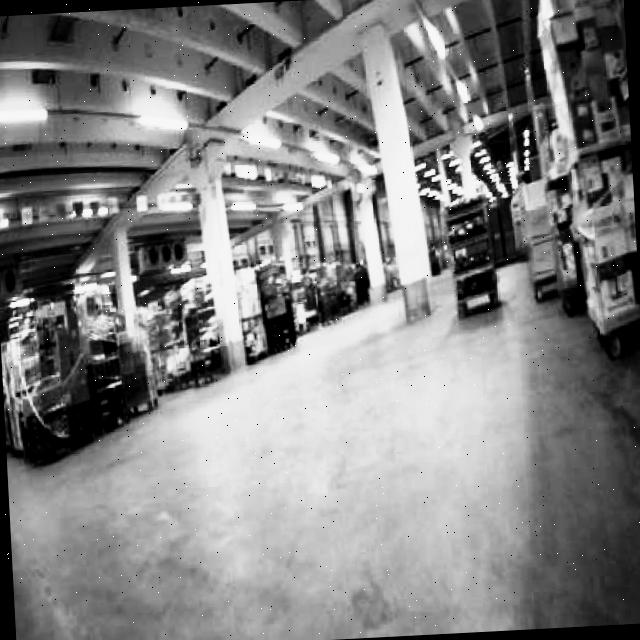ground: (0, 248, 640, 640)
pallet: (0, 250, 376, 469), (536, 0, 640, 362), (564, 122, 640, 360), (0, 293, 101, 467), (445, 198, 503, 318), (522, 175, 562, 301)
